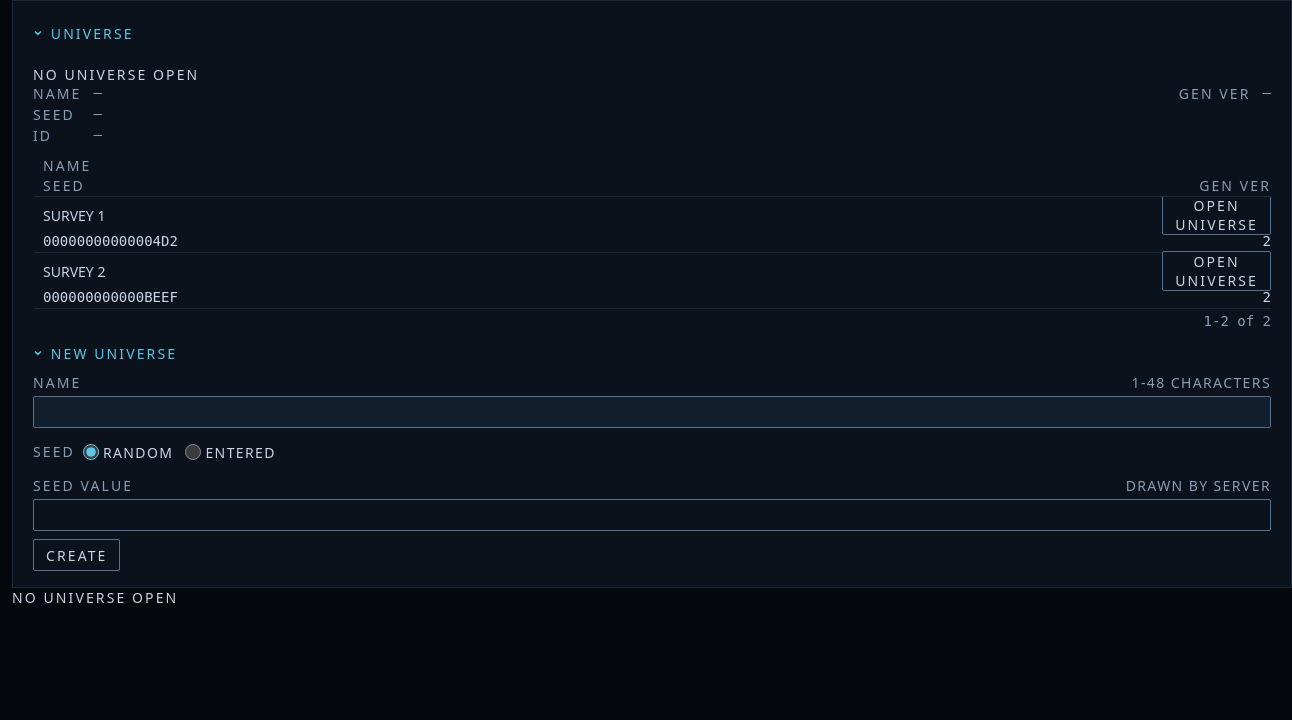
Test case: ParametersPanel › requests the open universe's parameters and shows PENDING
Click the button with aria-label "Open universe SURVEY 1".
click(1217, 215)  # box [1162,195,1271,235]
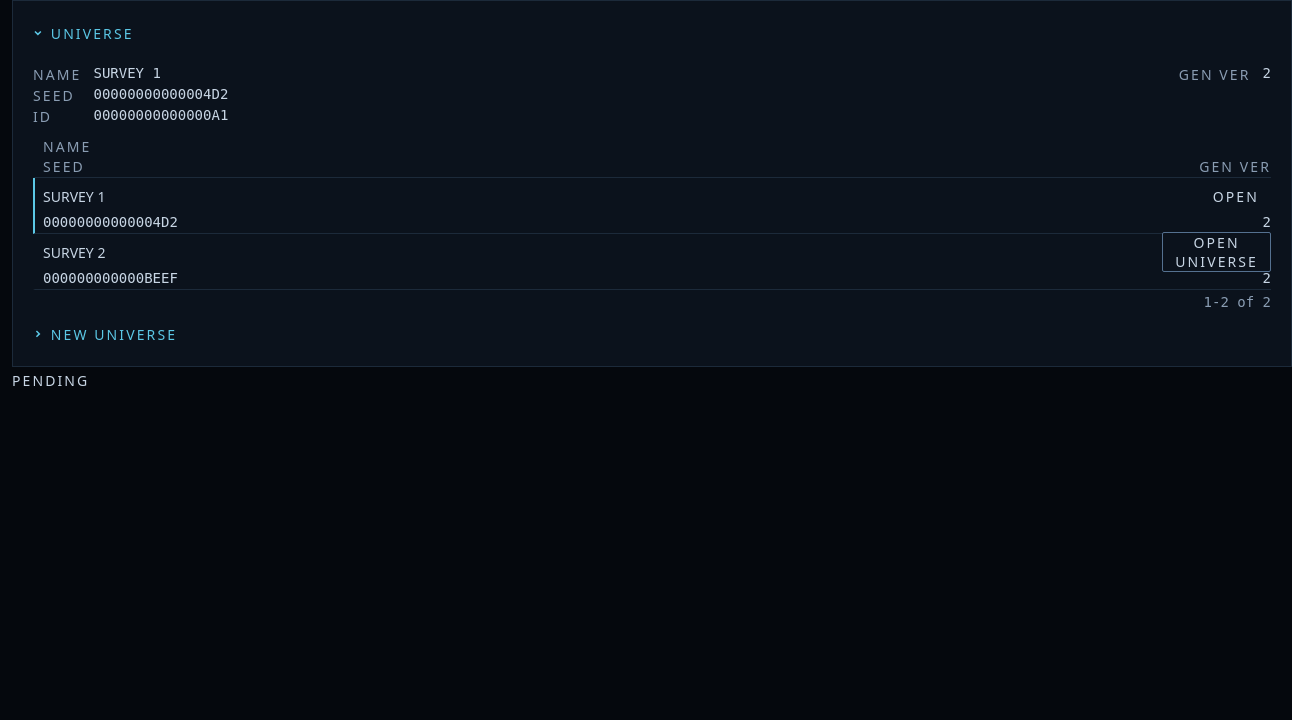
Expected: the text "PENDING" is shown, [12,371,89,390]
Expected: the text "NO UNIVERSE OPEN" is gone
